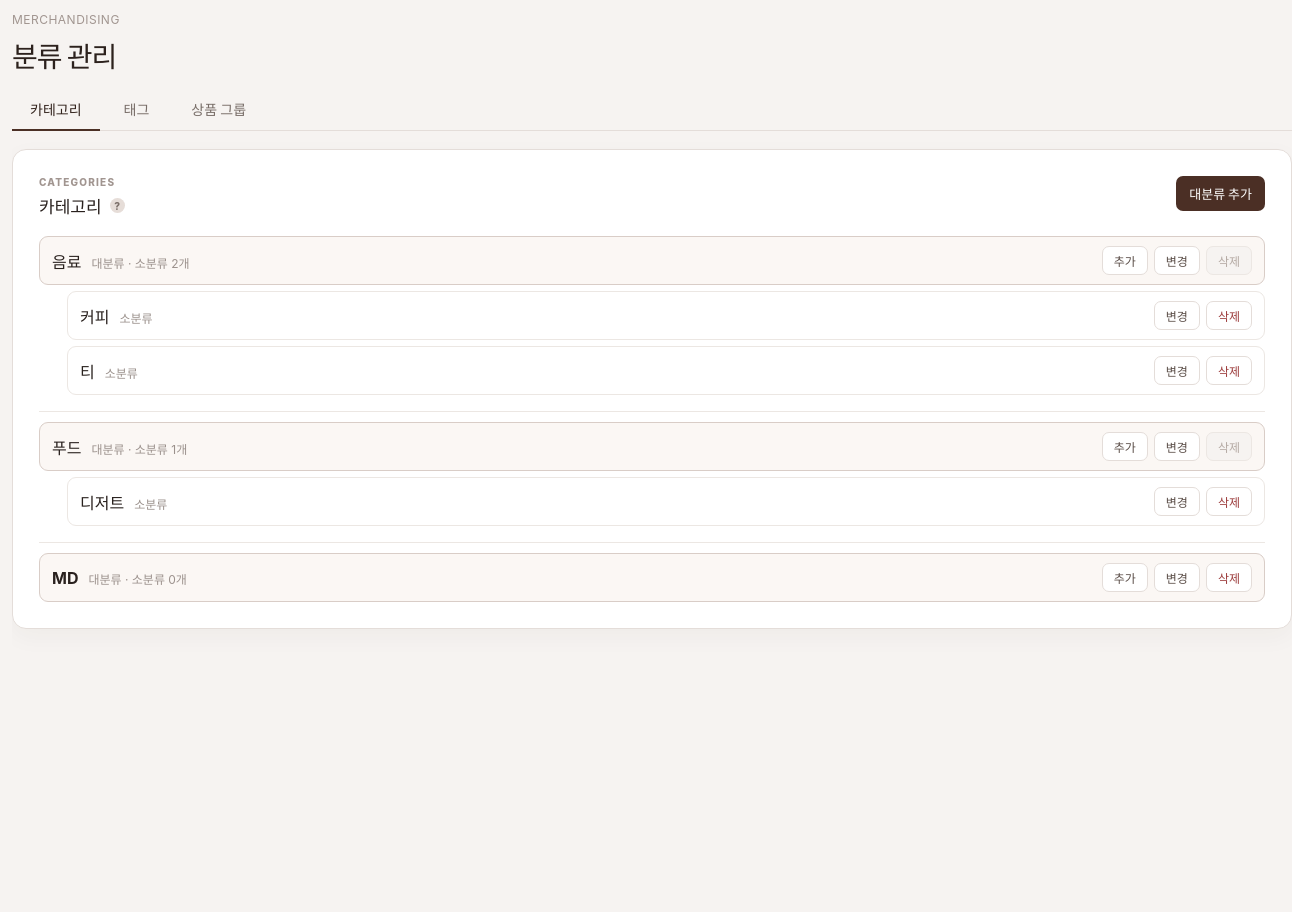
Test case: 카테고리 › 설명은 본문에 늘어놓지 않고 제목 옆 ? 툴팁으로 보여준다
This screenshot has width=1292, height=912.
Expected: the text "소분류가 하나도 없으면 상품을 등록할 수 없습니다" is not shown
Hover over the picture named "카테고리 안내": (117, 206) [110,198,125,213]
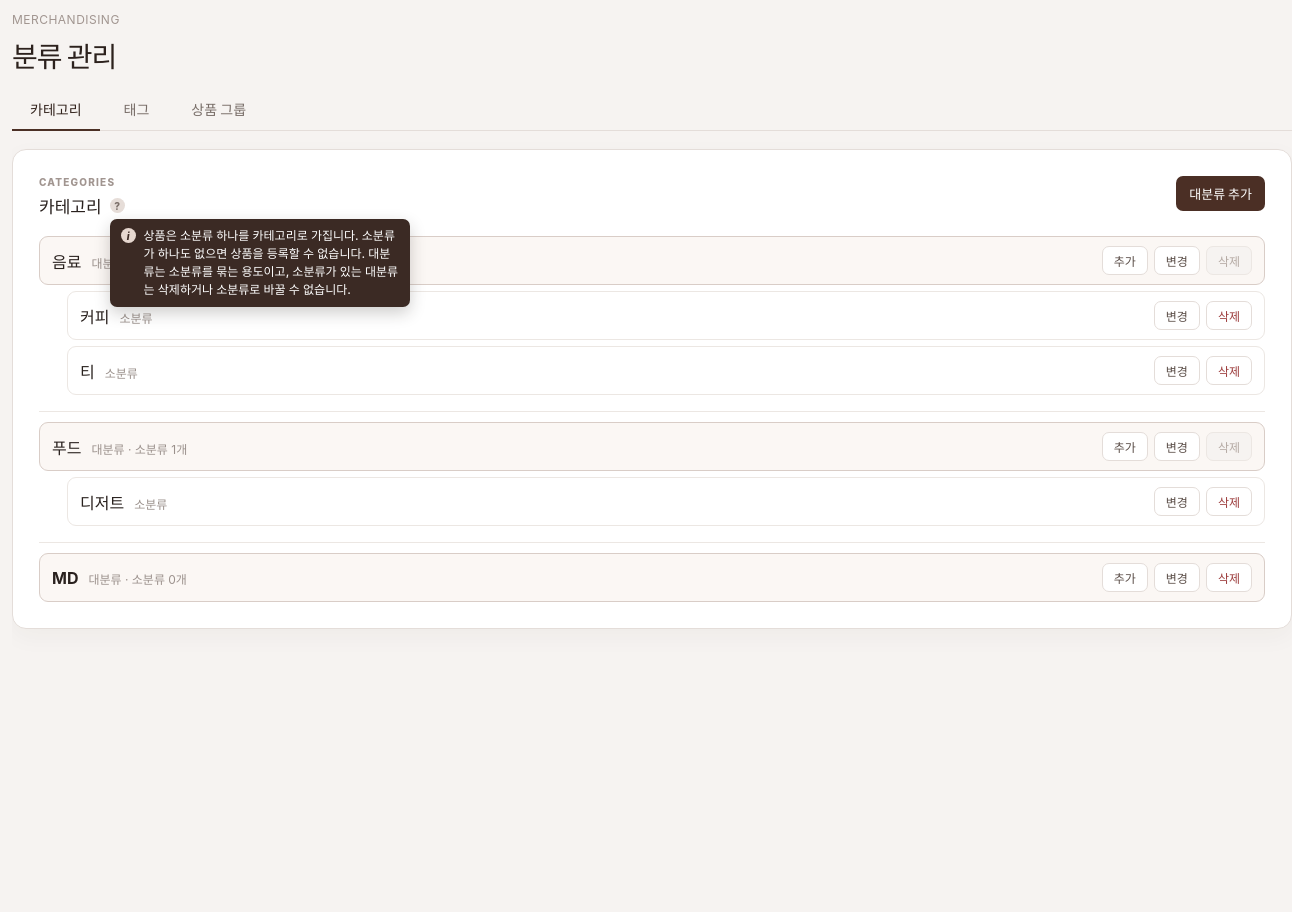
Expected: the tooltip "소분류가 하나도 없으면 상품을 등록할 수 없습니다" is shown, [144,228,398,297]
